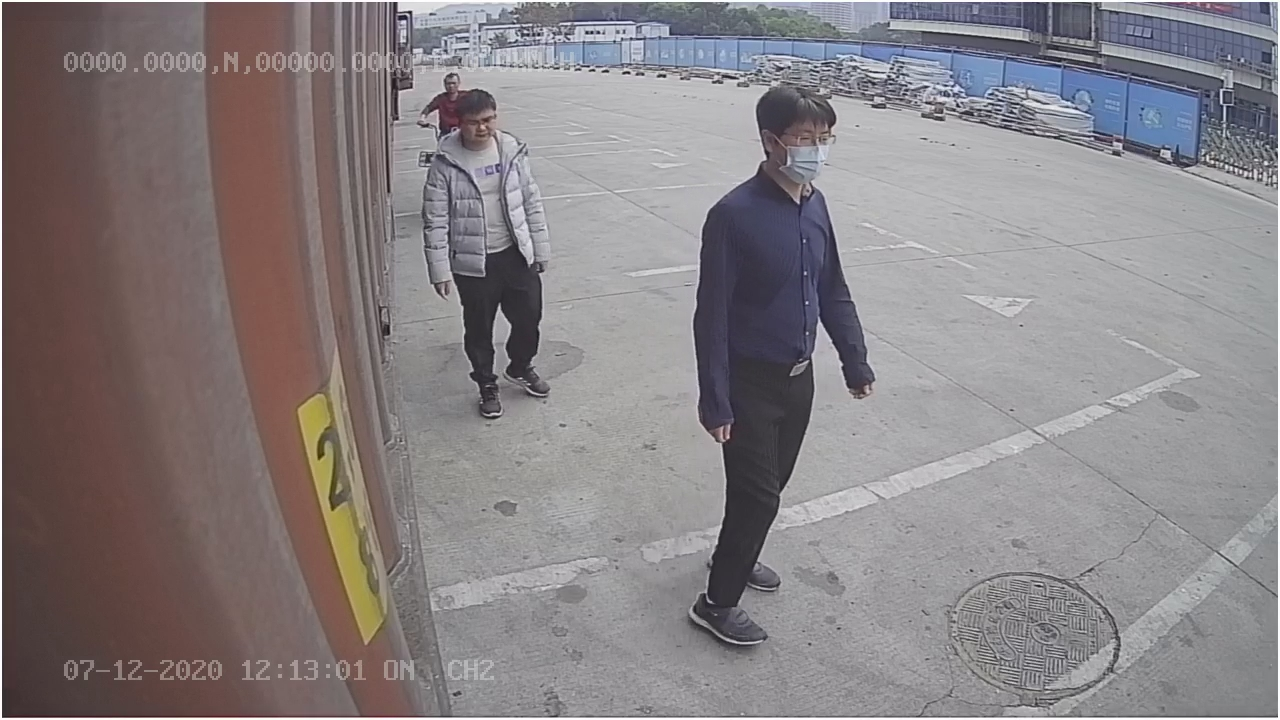person: (689, 71, 876, 650)
